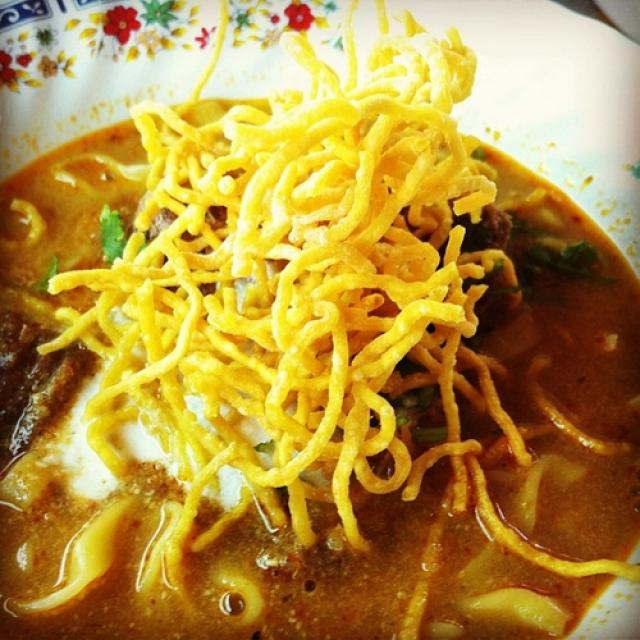面条主食: (18, 69, 589, 613)
